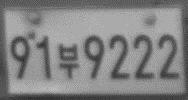1: (35, 34, 53, 80)
2: (157, 33, 181, 80), (132, 33, 155, 81), (109, 34, 130, 80)
9: (83, 34, 106, 80), (9, 36, 32, 80)
부: (58, 42, 80, 80)
